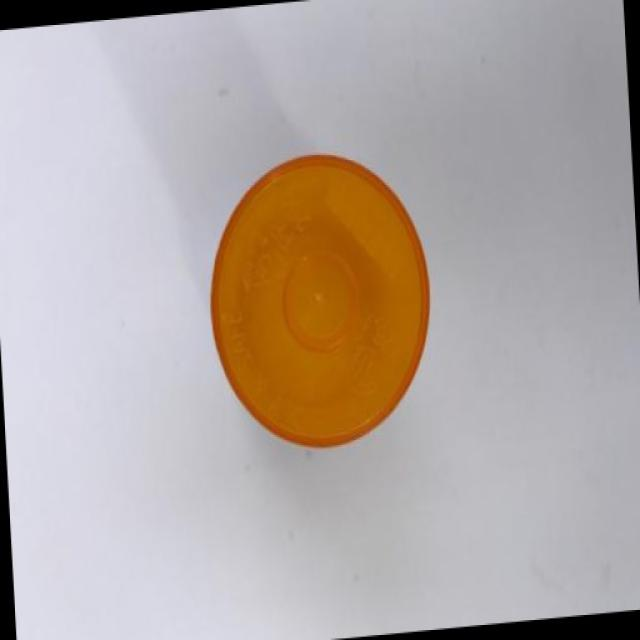plastico: (206, 141, 436, 461)
